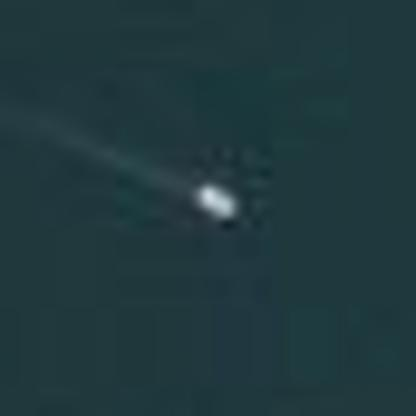ship: (179, 169, 251, 226)
